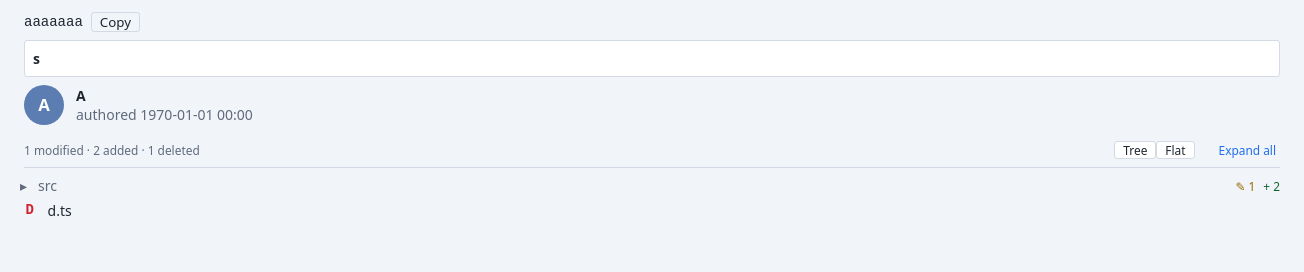
Scenario: CommitDetails file list › Flat mode lists full paths
Step 1. Click the button "Flat" → x=1175, y=150, box [1156,141,1194,159]
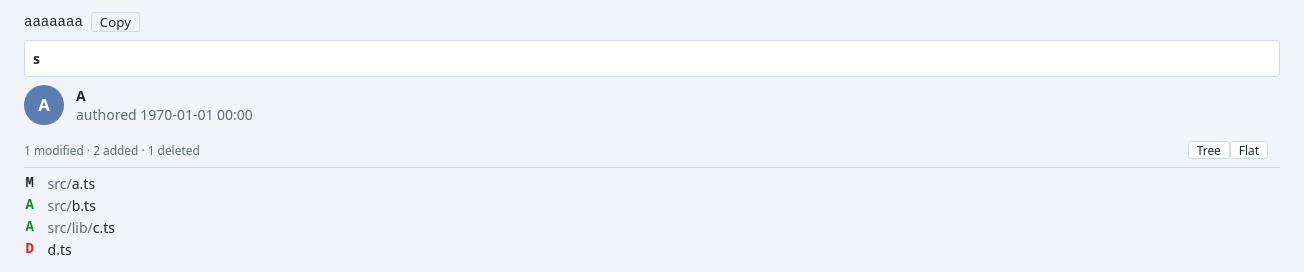
Expected: the button titled "src" is gone
Expected: the button titled "src/lib/c.ts" is shown, [12,216,1292,238]
